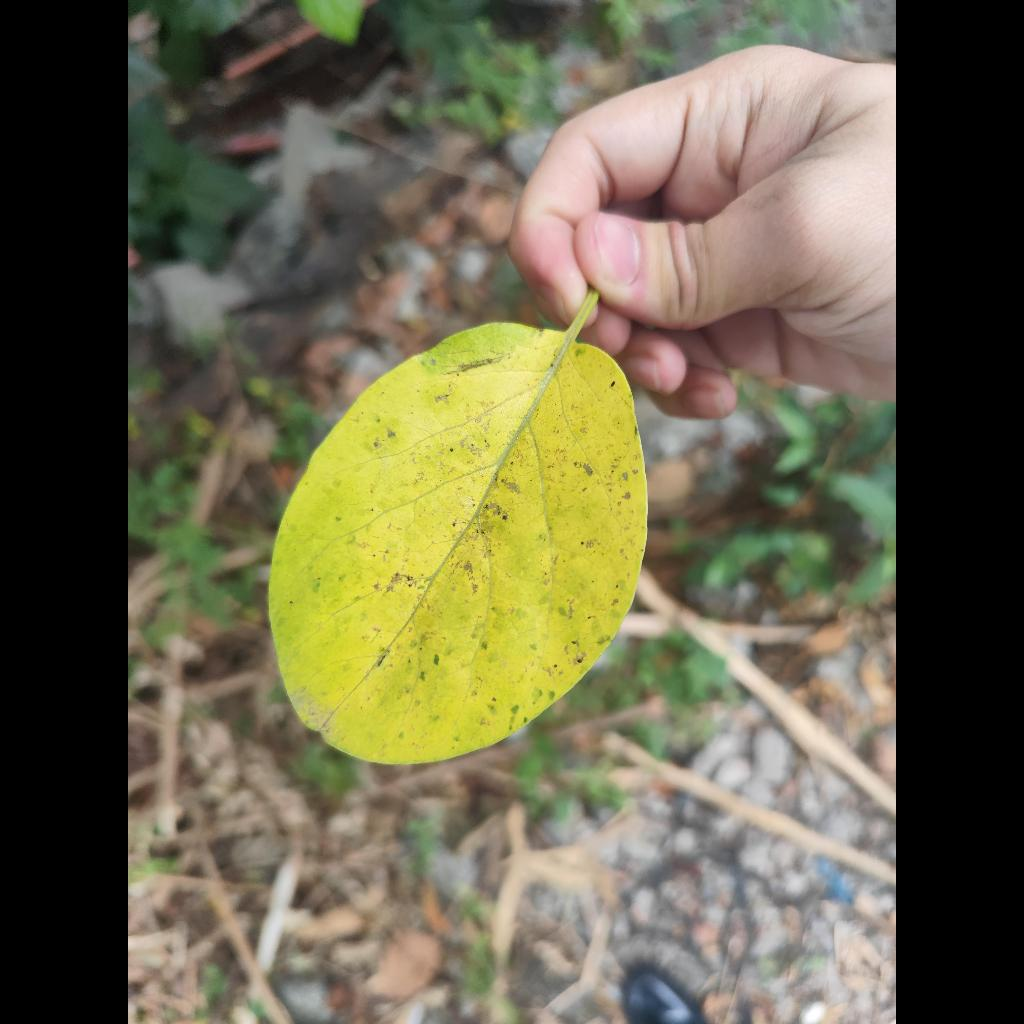nutrient_deficiency: (269, 315, 647, 763)
